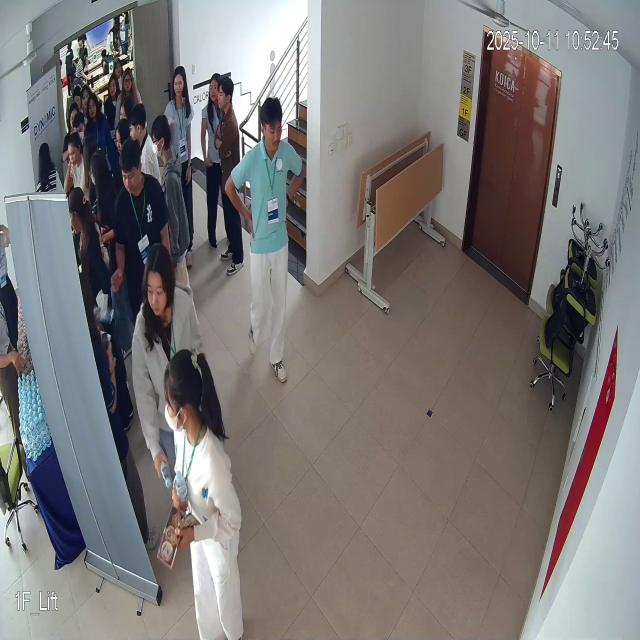face: (142, 238, 176, 317), (115, 140, 148, 205), (260, 96, 283, 162)
